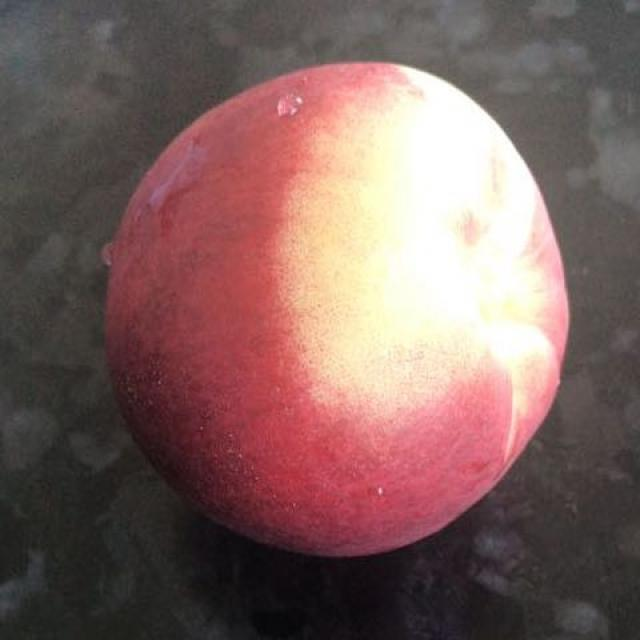nectarine: (118, 59, 580, 539)
